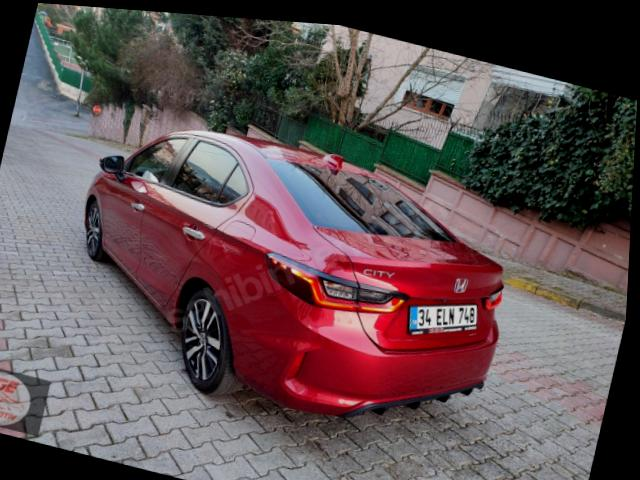plaka: (408, 304, 477, 333)
